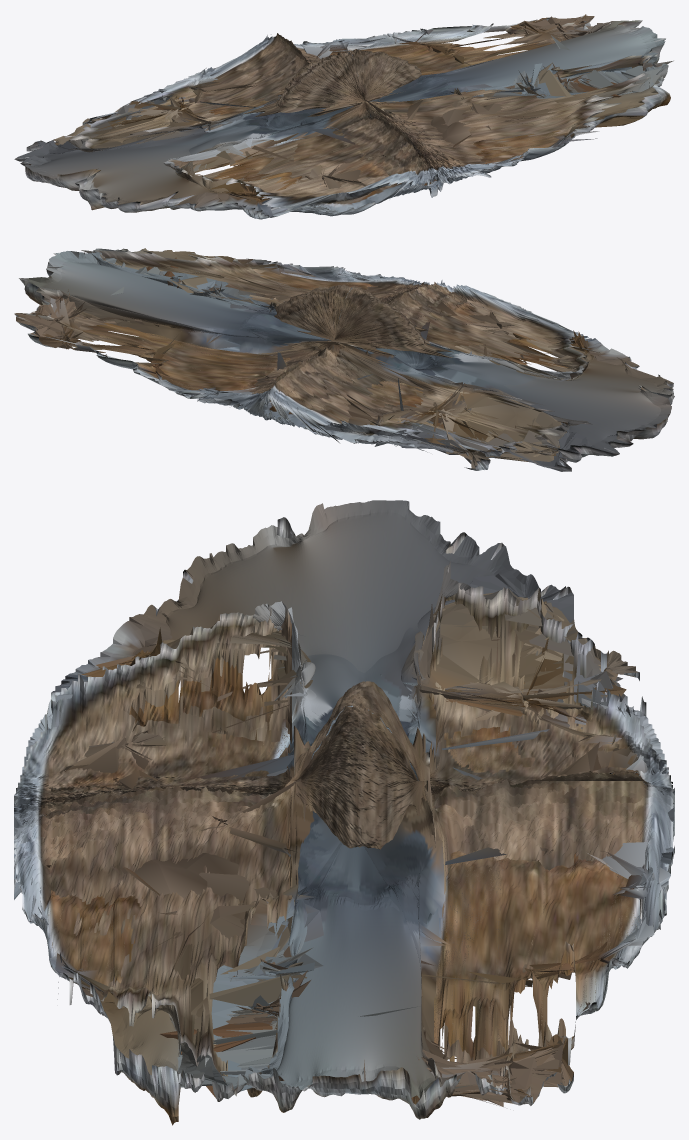
Rendered from mesh_inpaint.glb.
The picture shows the model from 3 angles, top to bottom: view 1: azimuth 30°, elevation 25°; view 2: azimuth 150°, elevation 25°; view 3: azimuth 270°, elevation 25°; orthographic projection. The views are drawn at different scales.
Visible parts, largest first — view 1: ipn, fill; view 2: ipn, fill; view 3: ipn, fill.
Boxes of the visible parts, x1,y1,x2,y2 form: ipn: (14, 15, 673, 219); fill: (15, 14, 668, 216); ipn: (14, 248, 674, 471); fill: (14, 248, 674, 468); ipn: (14, 517, 674, 1125); fill: (14, 500, 674, 1106).
Bounding box in the file's own units: 1.99 × 0.3887 × 0.9423.
2 materials, 1 textured.
